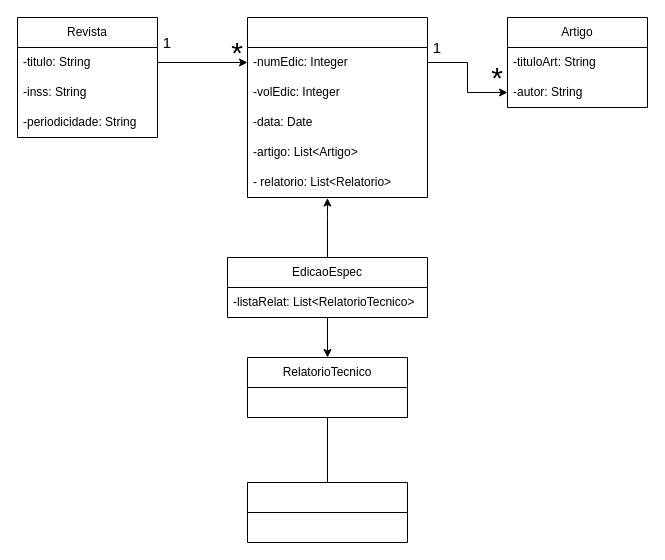
The diagram is 665 pixels wide and 560 high, and some of its shapes have lost their labels. The shapes that lost their labels are listed below. From the top down, each one's box as (x1, y1, x2, y2) in pixels, then its label:
(246, 16, 428, 198): Edicao
(246, 482, 408, 542): Relatorio
